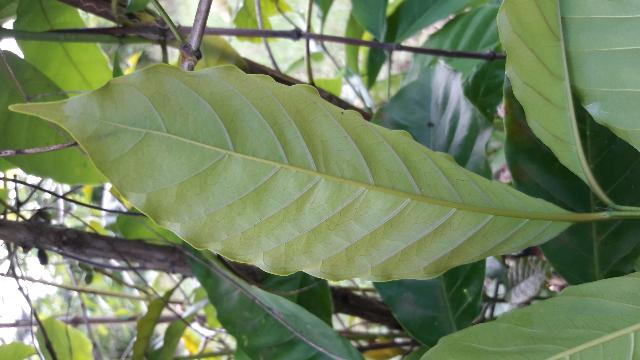healthy: (10, 62, 570, 281)
